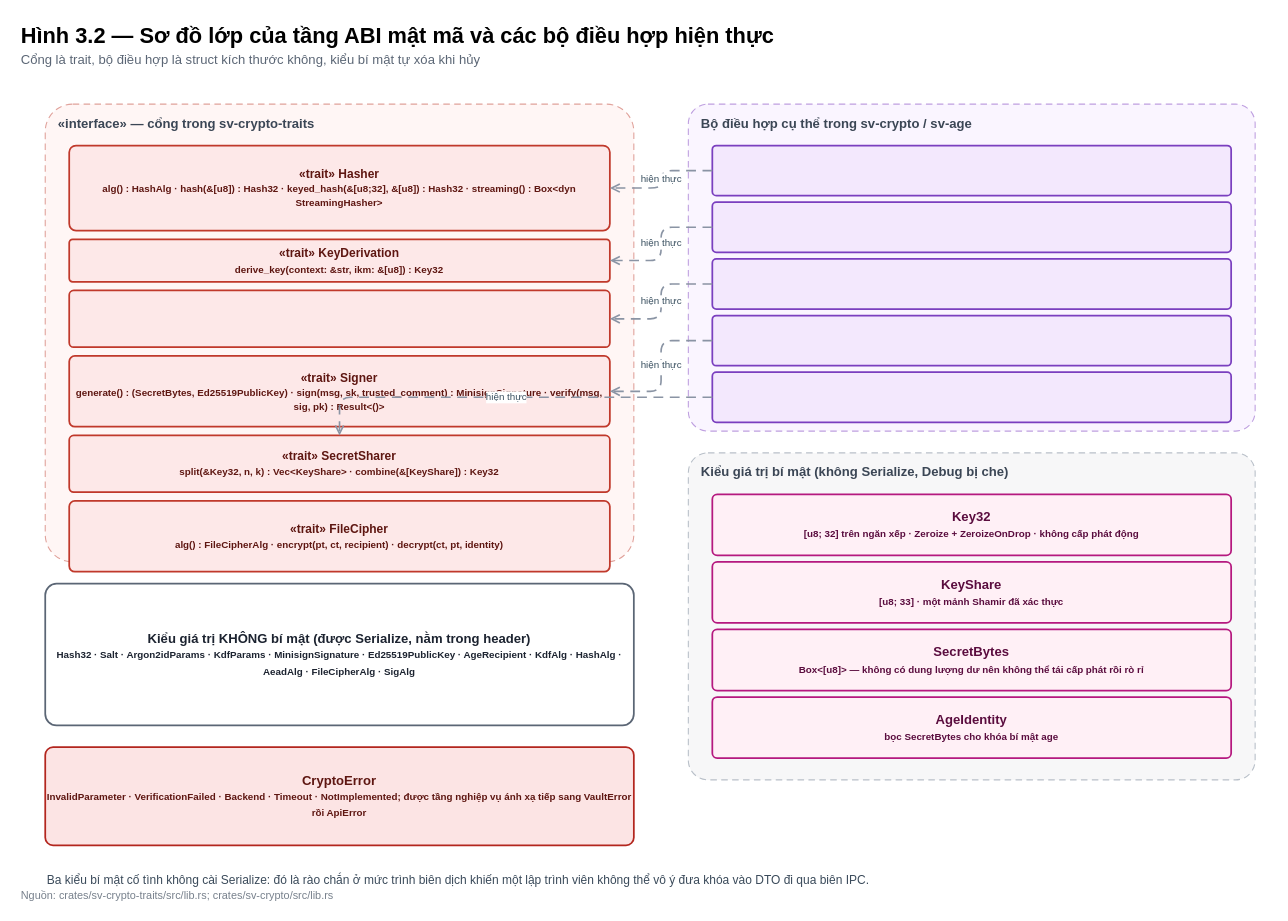
The diagram is 1288 pixels wide and 921 high, and some of its shapes have lost their labels. Here are the shapes that lost their labels. From the top down, the centre of each, then its label:
At point 971,170: "Blake3Hasher Hasher + KeyDerivation → crate blake3".
At point 971,227: "Argon2Kdf Kdf → crate argon2 (Argon2id, V0x13)".
At point 971,283: "SodiumMinisignSigner Signer → libsodium Ed25519 + BLAKE2b".
At point 339,318: "«trait» Kdf alg() : KdfAlg · derive(pass, salt, params) : Result<Key32>".
At point 971,340: "SssSharer SecretSharer → sss hazmat.c".
At point 971,397: "AgeCipher FileCipher → tiến trình con age đã ghim băm".
